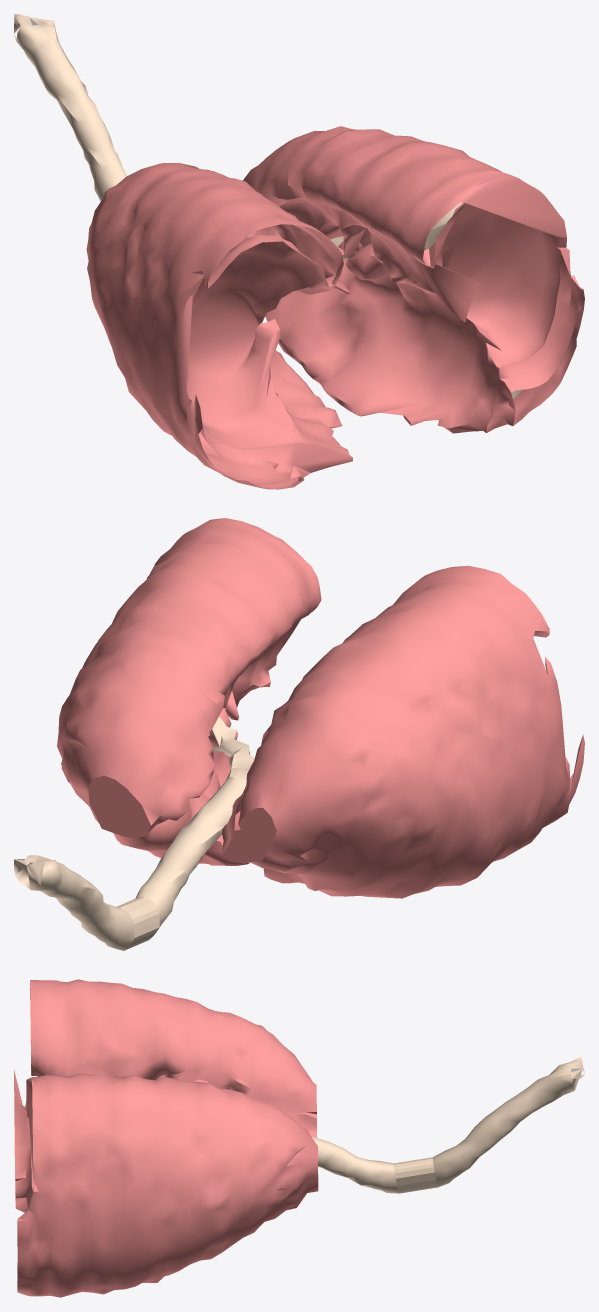
Rendered from paru-paru sapi.fbx.
The picture shows the model from 3 angles, top to bottom: view 1: azimuth 30°, elevation 25°; view 2: azimuth 150°, elevation 25°; view 3: azimuth 270°, elevation 25°; orthographic projection. The views are drawn at different scales.
Visible parts, largest first — view 1: Group1; view 2: Group1; view 3: Group1.
Boxes of the visible parts, x1,y1,x2,y2 form: Group1: [14, 14, 584, 489]; Group1: [14, 518, 584, 950]; Group1: [14, 979, 584, 1297].
Bounding box in the file's own units: 623 × 410 × 939.
